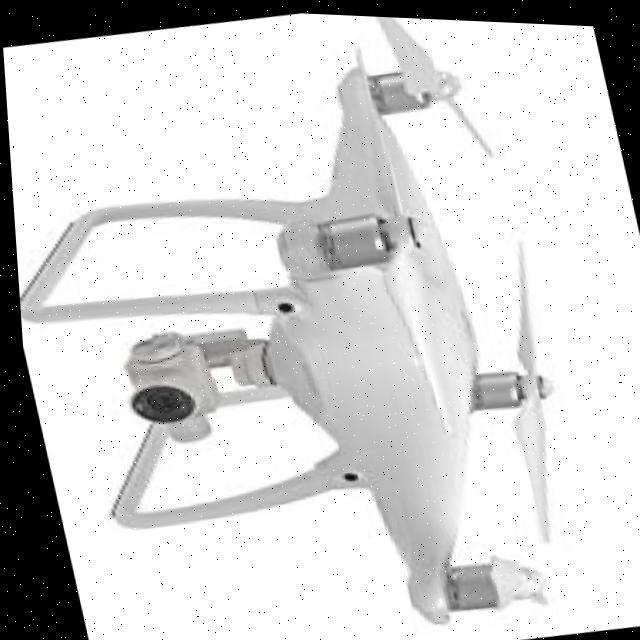drones: (0, 0, 629, 640)
